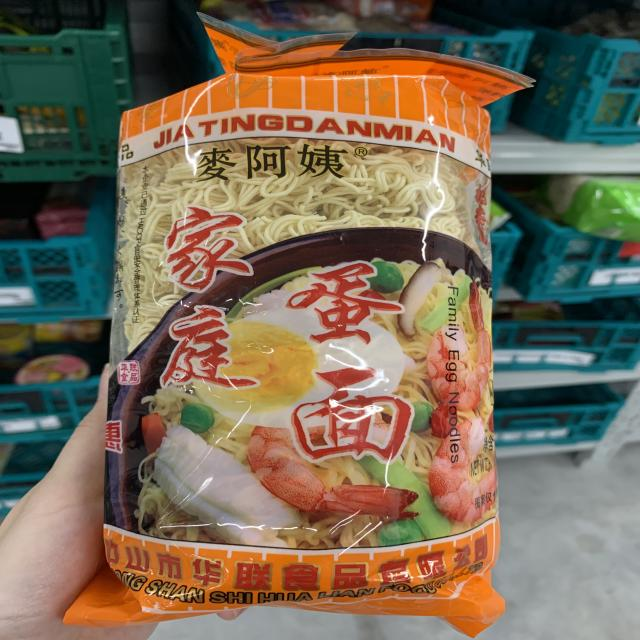object_name: (125, 63, 478, 605)
